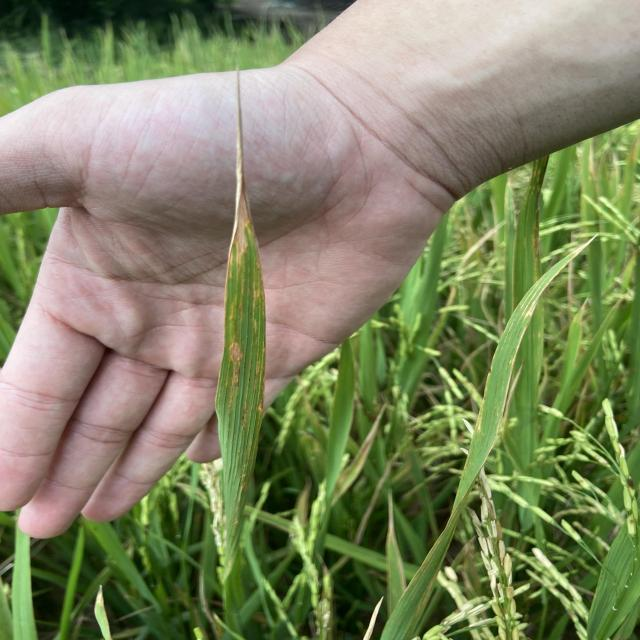Dom soc vi khuan: (228, 341, 245, 416), (257, 347, 266, 412), (238, 273, 246, 313), (253, 356, 260, 390), (236, 243, 241, 278), (242, 406, 248, 427), (228, 304, 234, 320), (254, 319, 257, 334)
